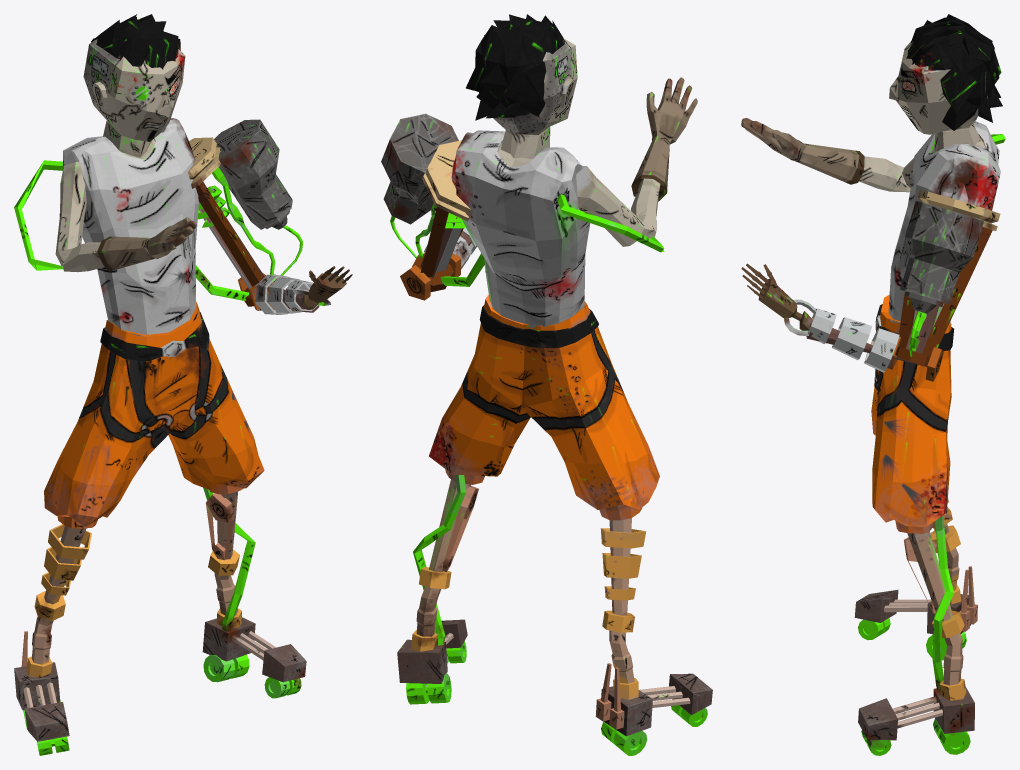
Rendered from CyborgFINALAnimation_000025.obj.
3 views of the same model, side by side, from view 1: azimuth 30°, elevation 25°; view 2: azimuth 150°, elevation 25°; view 3: azimuth 270°, elevation 25° (orthographic). The views are drawn at different scales.
Parts seen in each view (by area): view 1: CyborgMesh_Cube.002; view 2: CyborgMesh_Cube.002; view 3: CyborgMesh_Cube.002.
Part boxes in pixels (x1=…): CyborgMesh_Cube.002: x1=14, y1=14, x2=352, y2=755; CyborgMesh_Cube.002: x1=381, y1=14, x2=712, y2=755; CyborgMesh_Cube.002: x1=741, y1=14, x2=1005, y2=755.
Size of the model in its own units: 4.26 by 9.62 by 3.38.
